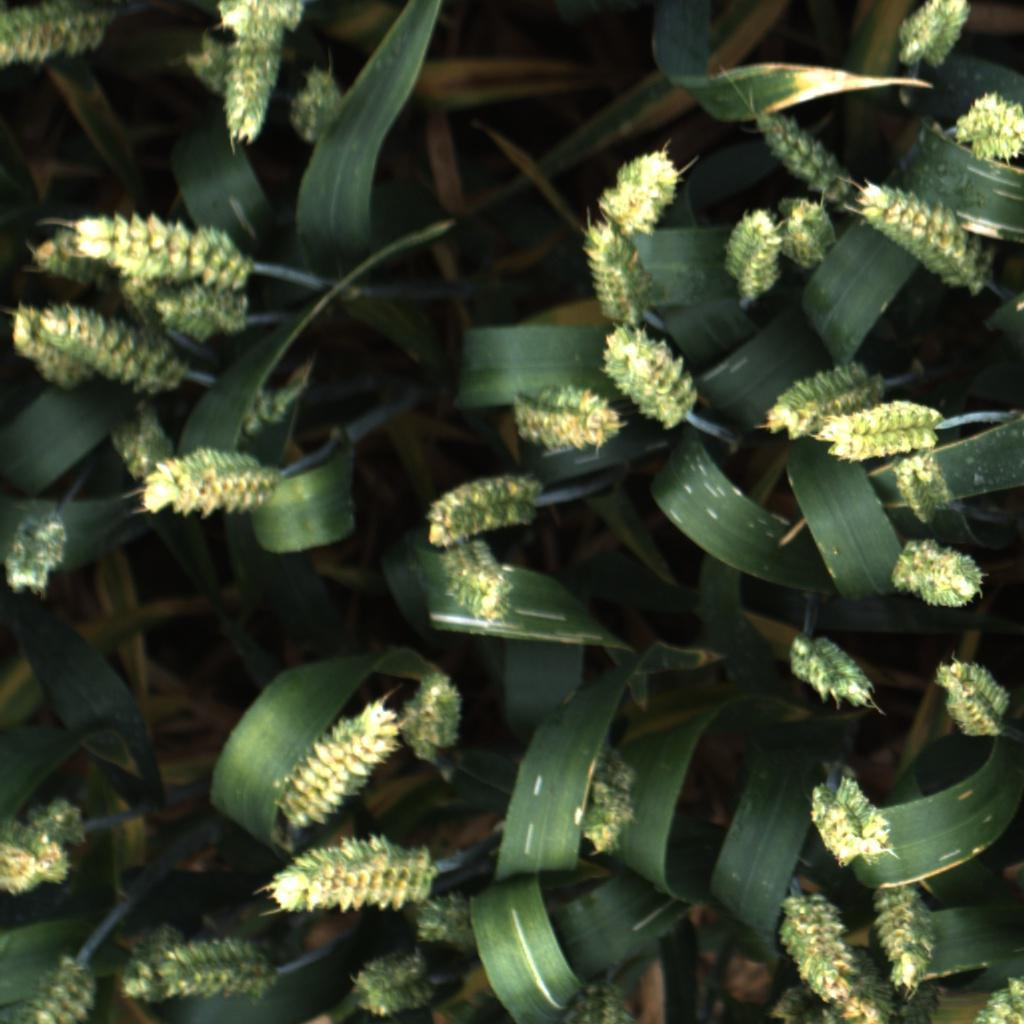0-0: (10, 295, 184, 400), (275, 692, 406, 828), (744, 101, 882, 222), (862, 169, 989, 300), (61, 210, 259, 285), (257, 838, 435, 914), (117, 931, 281, 1009), (756, 945, 908, 1022), (604, 325, 712, 432), (749, 350, 868, 445), (146, 440, 283, 521), (0, 779, 86, 904), (804, 765, 899, 867), (15, 224, 183, 281), (572, 219, 660, 325), (767, 893, 855, 998), (89, 411, 189, 501), (509, 379, 622, 458), (428, 466, 540, 545), (0, 0, 115, 76), (889, 533, 989, 618), (826, 397, 947, 467), (598, 140, 689, 233), (346, 933, 439, 1024), (778, 634, 880, 716), (213, 29, 282, 146), (113, 287, 215, 361), (400, 654, 469, 762), (933, 649, 1012, 742), (577, 739, 637, 861), (874, 879, 939, 991), (445, 536, 522, 628), (8, 948, 99, 1024), (402, 875, 487, 956), (718, 203, 783, 300), (152, 285, 262, 342), (8, 505, 73, 600), (890, 0, 977, 70), (954, 86, 1024, 165), (286, 56, 346, 148), (895, 448, 958, 533), (768, 188, 837, 263), (211, 0, 311, 37), (564, 981, 635, 1024)
